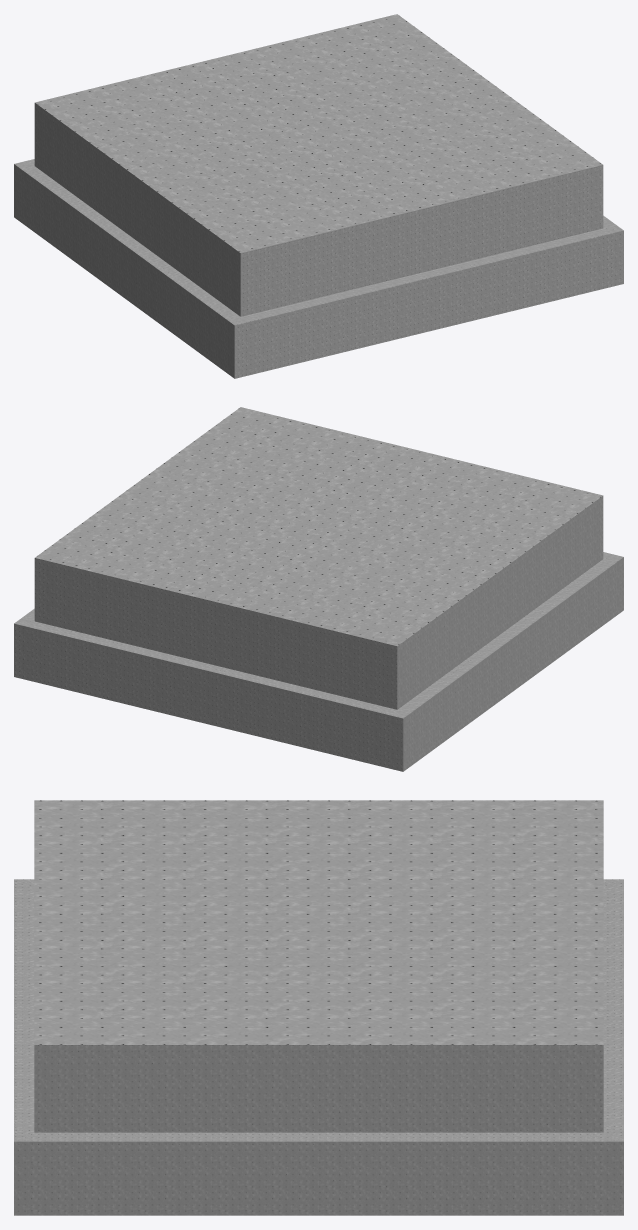
The model's file is Stadium_Wall.FBX.
The picture shows the model from 3 angles, top to bottom: view 1: azimuth 30°, elevation 25°; view 2: azimuth 150°, elevation 25°; view 3: azimuth 270°, elevation 25°; orthographic projection. The views are drawn at different scales.
Visible parts, largest first — view 1: Stadium_Wall; view 2: Stadium_Wall; view 3: Stadium_Wall.
Part boxes in pixels (x1=…): Stadium_Wall: x1=14, y1=14, x2=623, y2=378; Stadium_Wall: x1=14, y1=407, x2=623, y2=771; Stadium_Wall: x1=14, y1=800, x2=623, y2=1215.
Size of the model in its own units: 69542 by 19971 by 68312.
